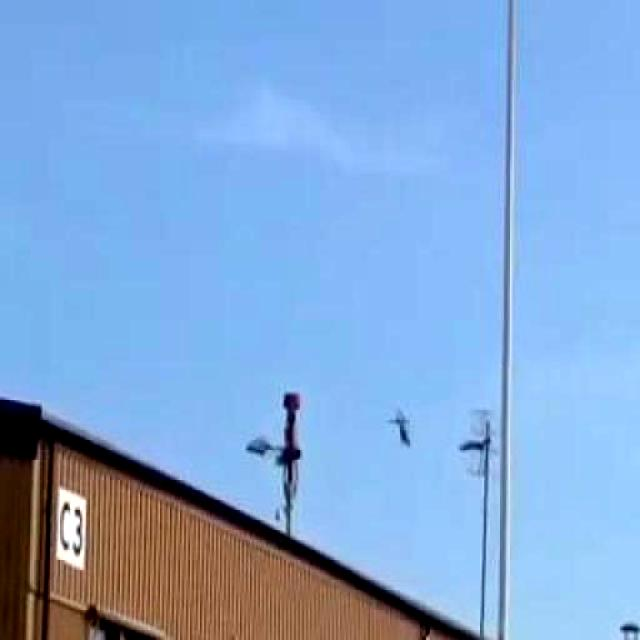drone: (375, 396, 428, 464)
